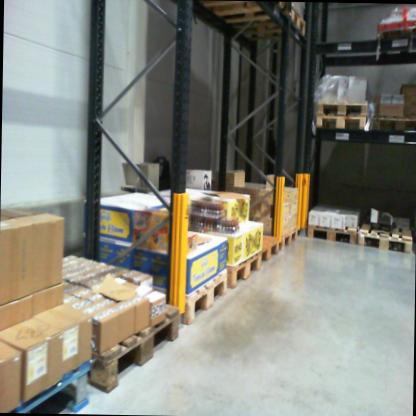pallet: (80, 283, 182, 399), (10, 343, 100, 414), (140, 260, 229, 330), (203, 8, 312, 41), (356, 203, 415, 257), (304, 207, 365, 249), (187, 0, 292, 23), (226, 245, 263, 299), (313, 111, 369, 134), (315, 95, 370, 117), (373, 21, 416, 49), (369, 115, 416, 136), (259, 224, 279, 269), (280, 224, 301, 253)
